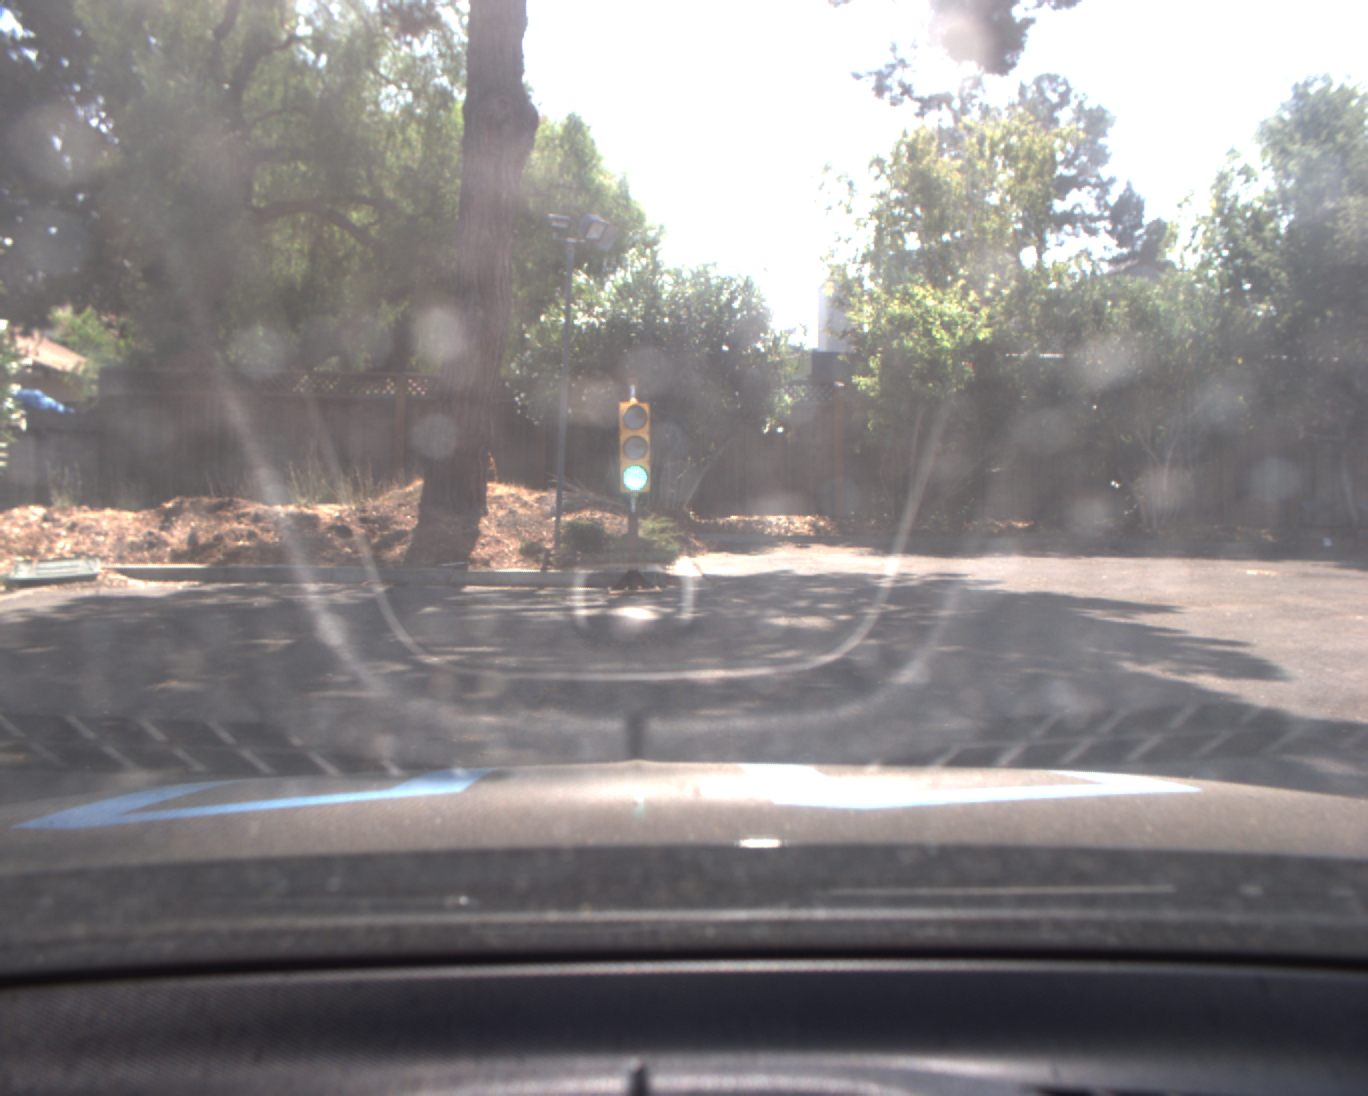green: (616, 399, 652, 495)
